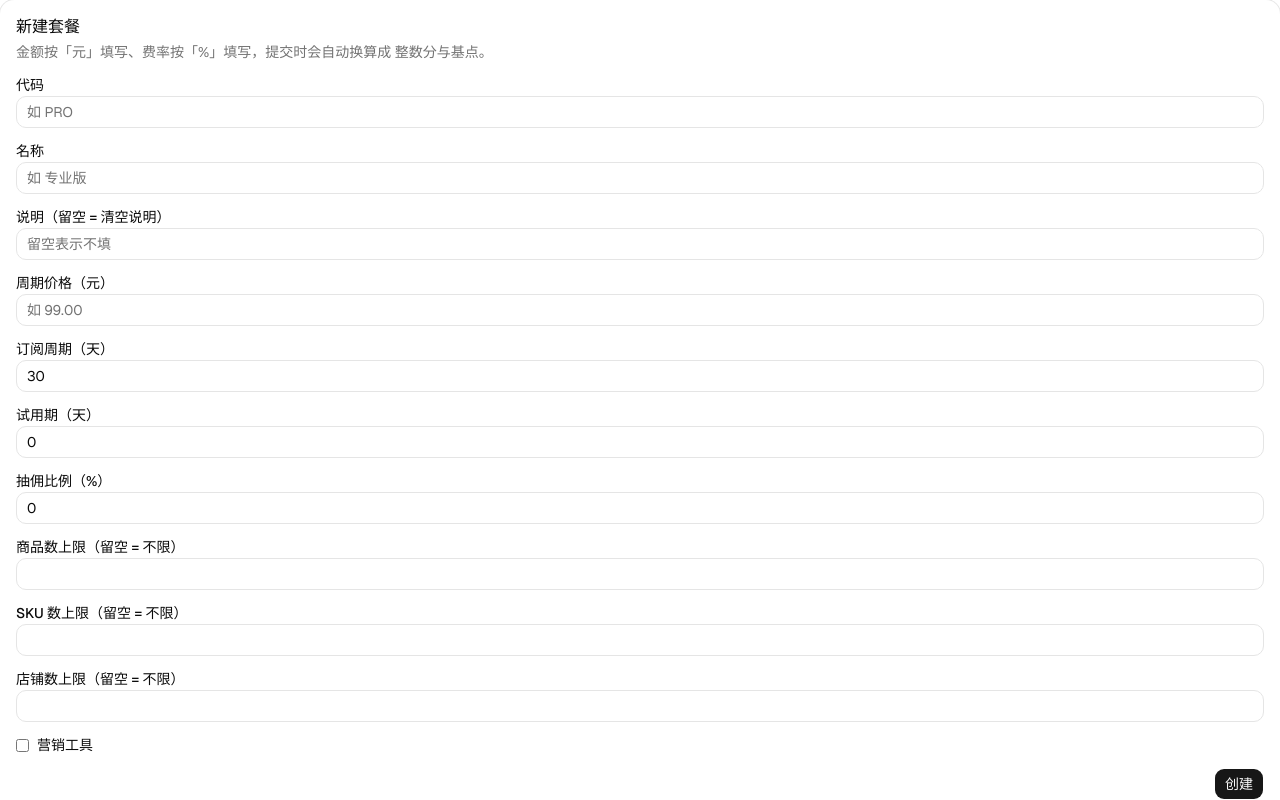
Test: PlanForm：新建套餐 › ⚠️ 抽佣比例非法时显示错误提示，且根本不发请求
Type "PRO" into the field labelled "代码" at coordinates (640, 112), box [16,96,1264,128]
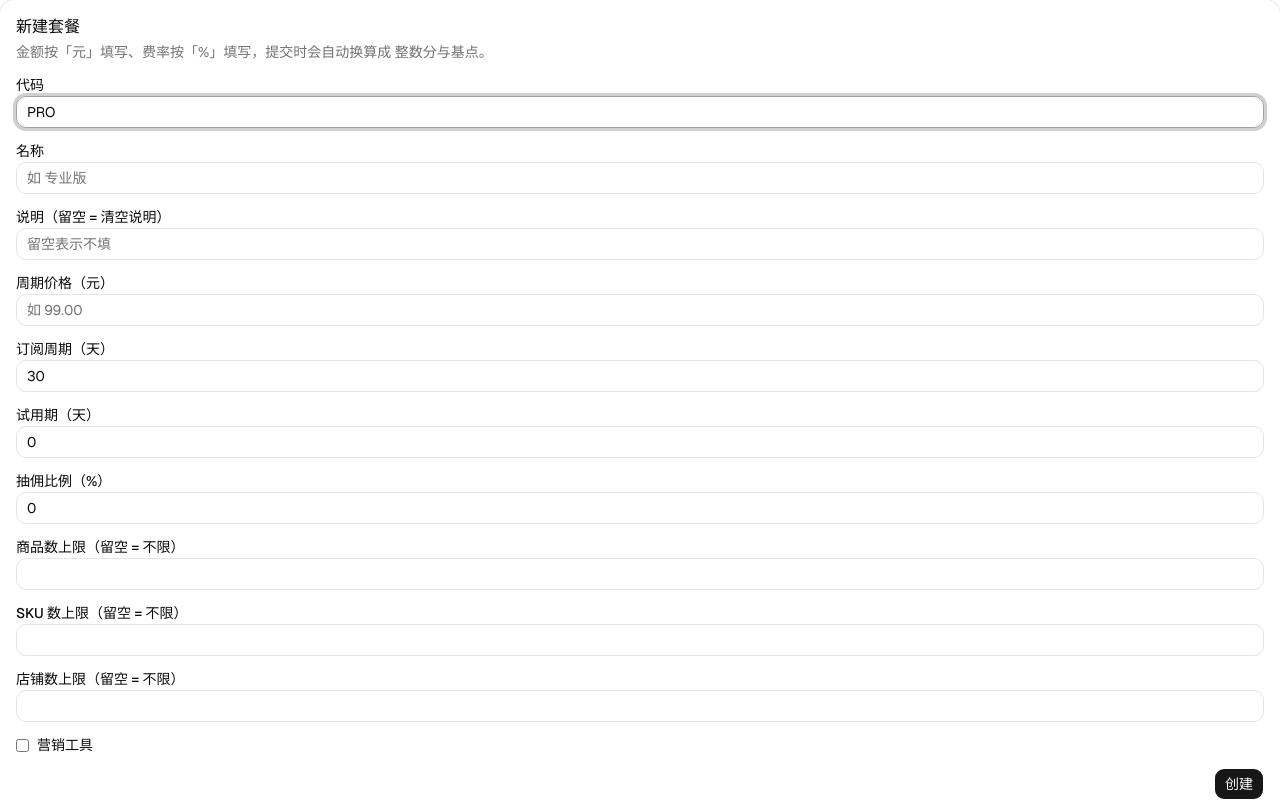
Type "专业版" into the field labelled "名称" at coordinates (640, 178), box [16,162,1264,194]
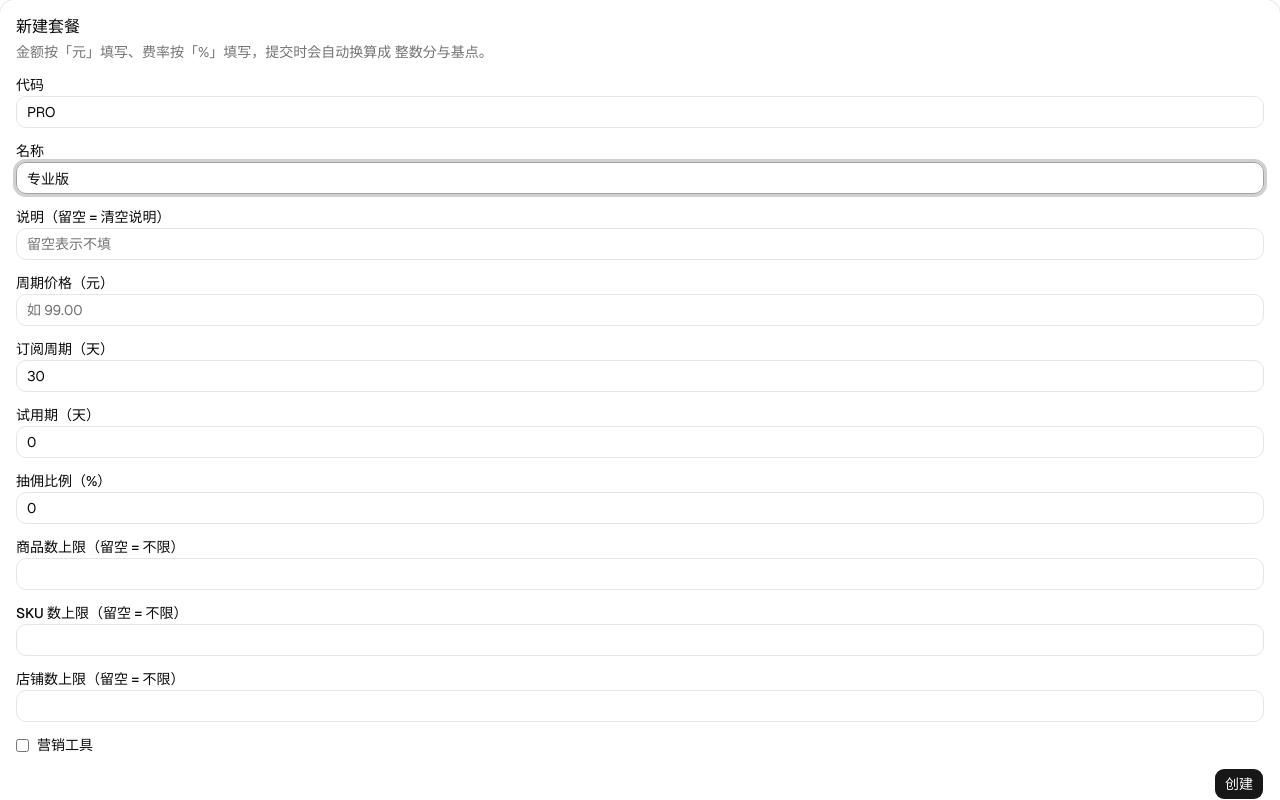
Type "99.00" into the field labelled "周期价格（元）" at coordinates (640, 310), box [16,294,1264,326]
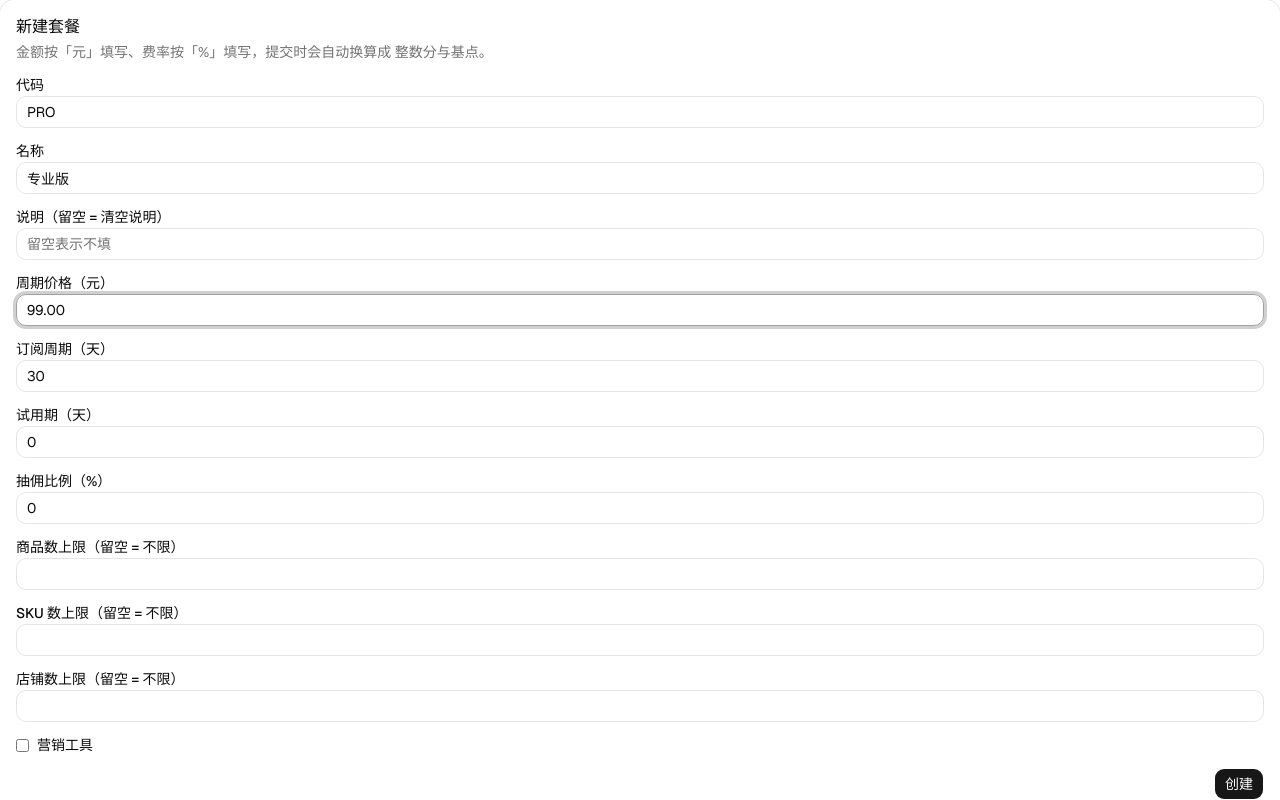
Type "abc" into the field labelled "抽佣比例（%）" at coordinates (640, 508), box [16,492,1264,524]
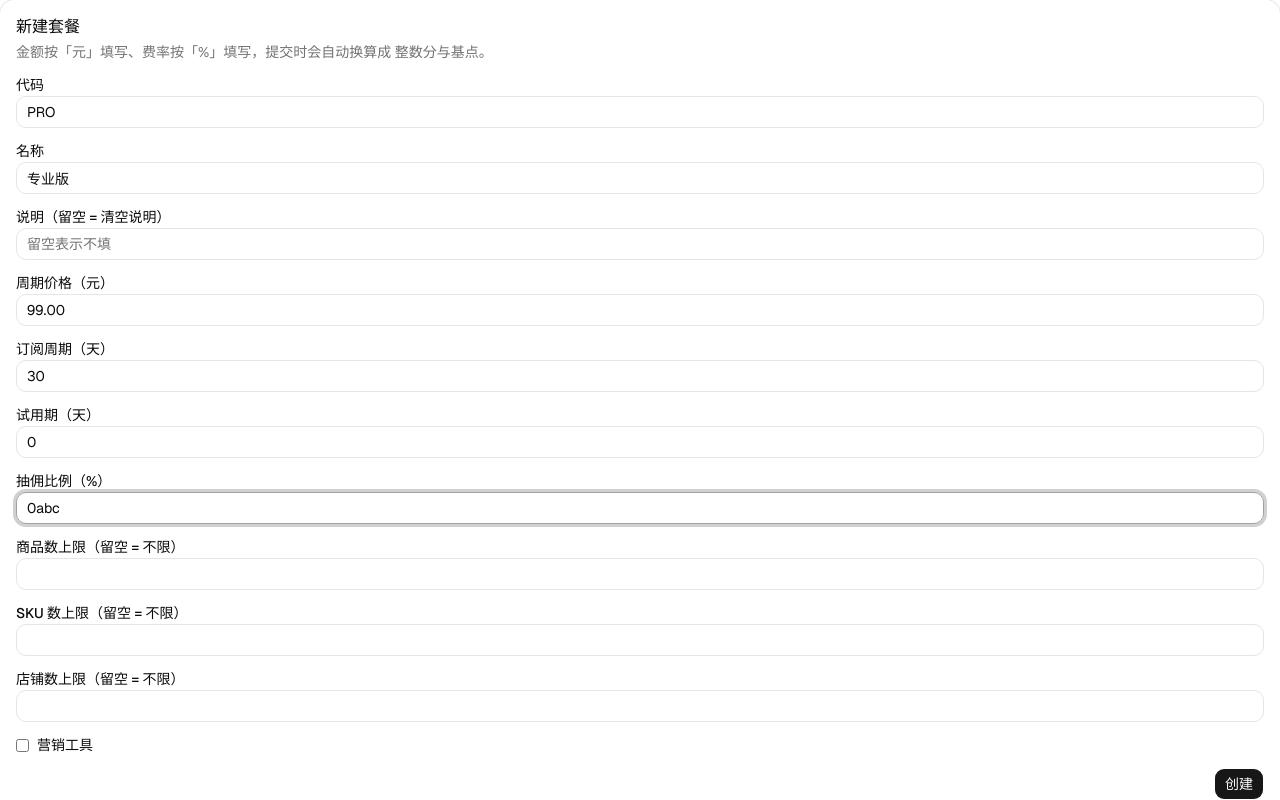
Click the button "创建" at coordinates (1239, 784), box [1214,768,1264,799]
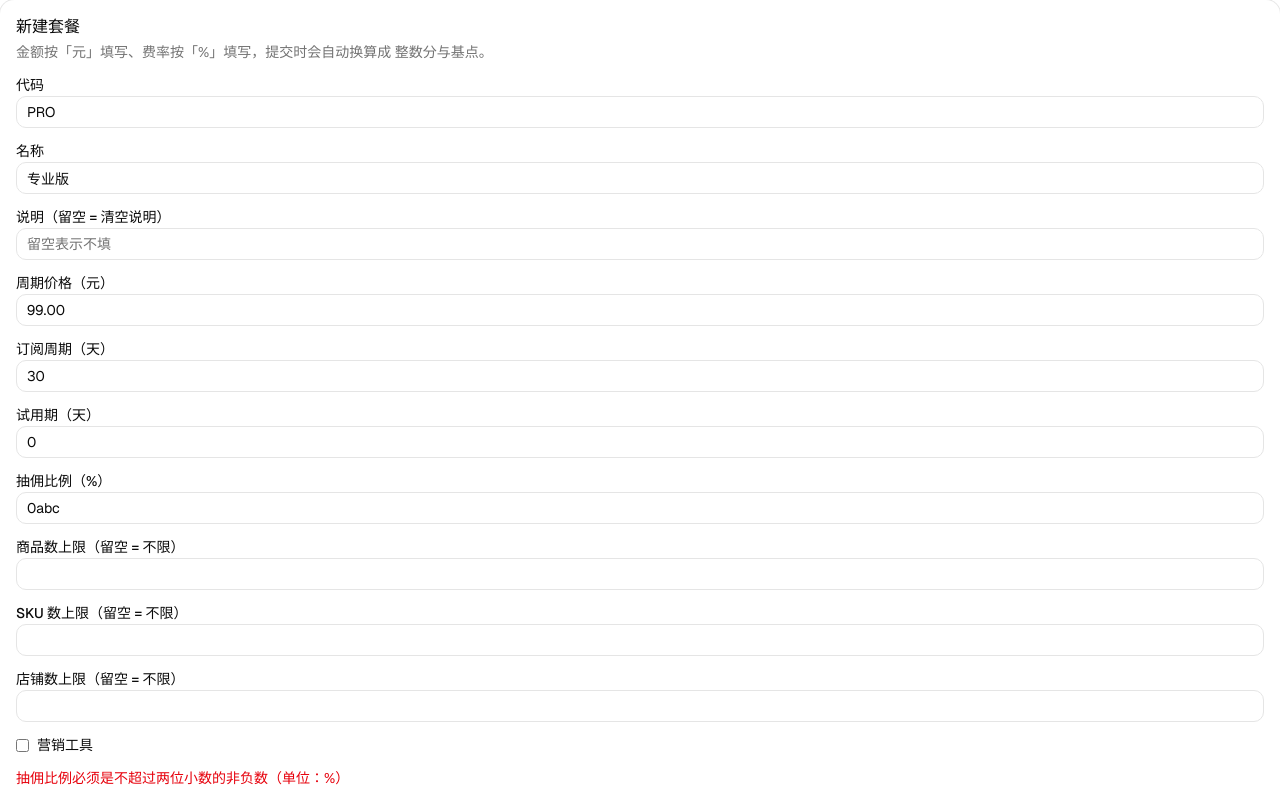
Check: the message shows "抽佣比例", box [16,769,349,787]
